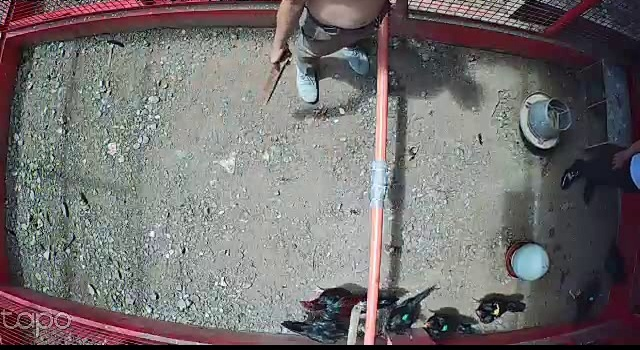Chicken: (382, 281, 437, 348), (273, 316, 373, 344), (421, 309, 490, 343), (471, 292, 527, 330)
Drinker: (503, 238, 553, 282)
Feeder: (517, 89, 575, 148)
Rooster: (287, 281, 408, 320)
Saddle_Color_Yellow: (493, 302, 500, 315)
